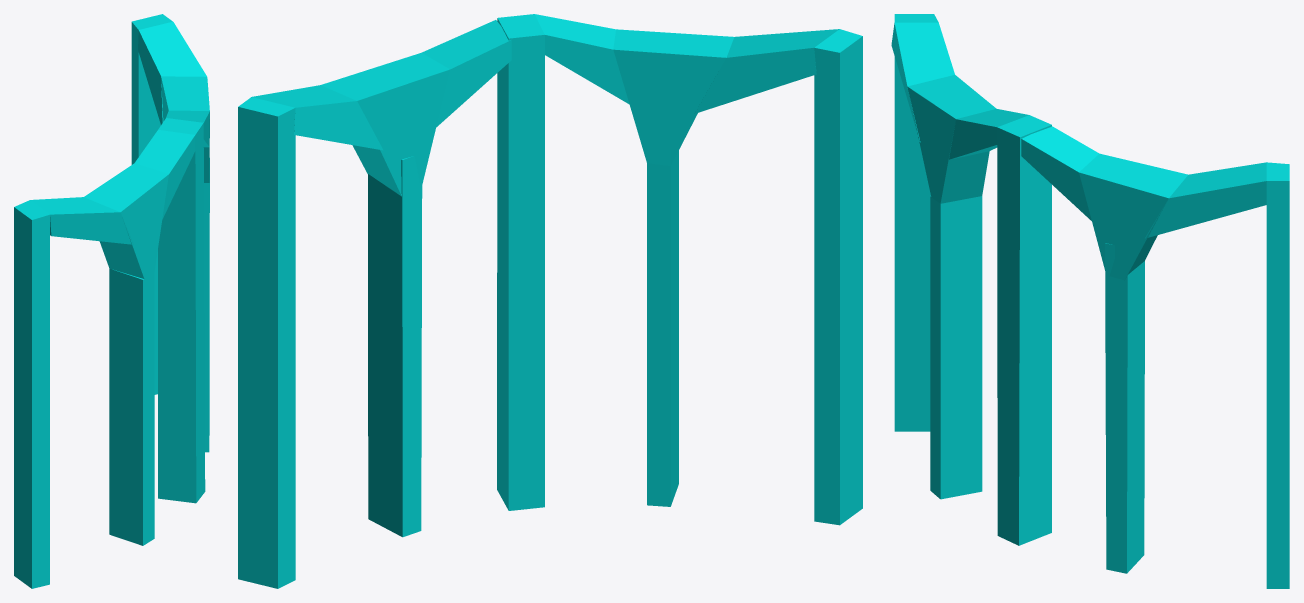
File: SM_Bld_Wall_Frame_Curved_02_Collision.fbx
3 views of the same model, side by side, from view 1: azimuth 30°, elevation 25°; view 2: azimuth 150°, elevation 25°; view 3: azimuth 270°, elevation 25° (orthographic). The views are drawn at different scales.
Visible parts, largest first — view 1: SM_Bld_Wall_Frame_Curved_02_Collision; view 2: SM_Bld_Wall_Frame_Curved_02_Collision; view 3: SM_Bld_Wall_Frame_Curved_02_Collision.
Boxes of the visible parts, x1=… form: SM_Bld_Wall_Frame_Curved_02_Collision: x1=14, y1=14, x2=209, y2=588; SM_Bld_Wall_Frame_Curved_02_Collision: x1=238, y1=14, x2=862, y2=588; SM_Bld_Wall_Frame_Curved_02_Collision: x1=891, y1=14, x2=1289, y2=588.
Size of the model in its own units: 265 by 301 by 265.
